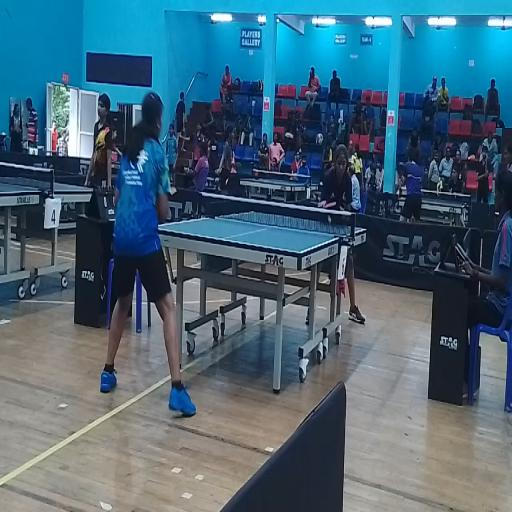ball: (328, 215, 332, 223)
